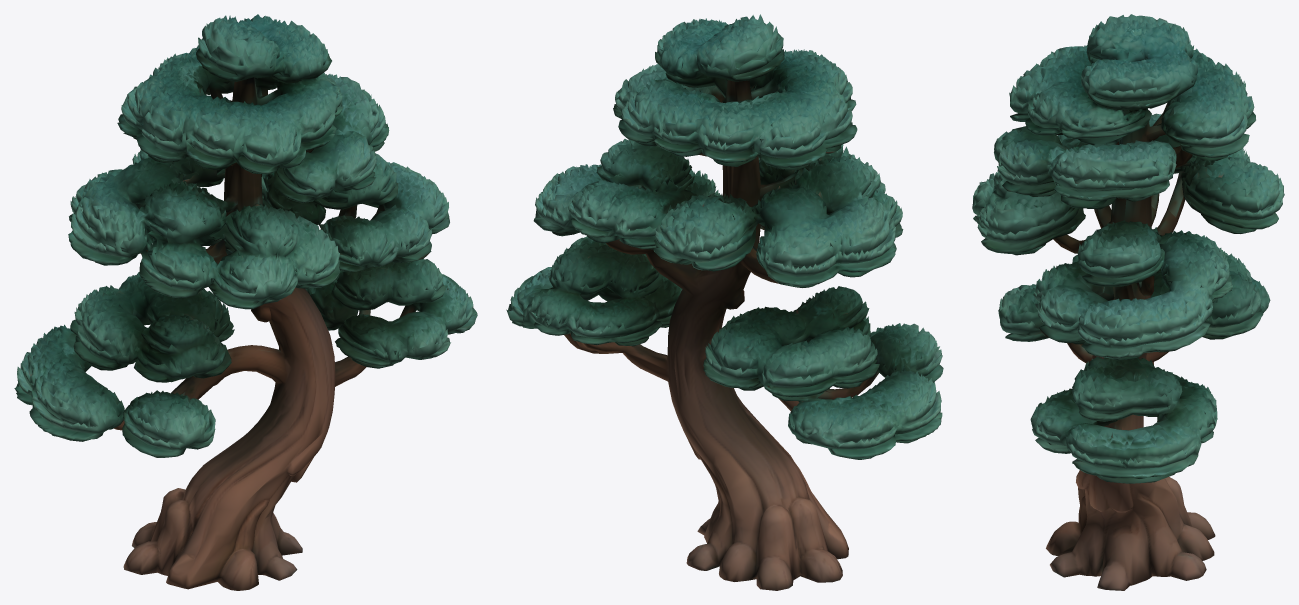
File: pine_raw.glb
3 renders of one model, left to right at view 1: azimuth 30°, elevation 25°; view 2: azimuth 150°, elevation 25°; view 3: azimuth 270°, elevation 25°, orthographic. The views are drawn at different scales.
Visible parts, largest first — view 1: node_0; view 2: node_0; view 3: node_0.
Boxes of the visible parts, box(x1,y1,x2,y2) form: node_0: box(14, 14, 477, 590); node_0: box(506, 14, 943, 590); node_0: box(972, 14, 1284, 590).
Size of the model in its own units: 0.9063 by 1.07 by 0.5589.
Materials: 1 (1 with a texture image).
